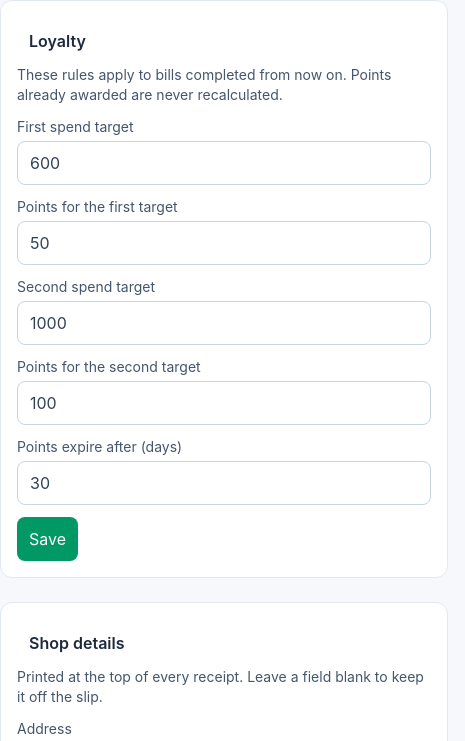
it: the loyalty settings screen › refuses an inverted pair of targets
Replace the text in the field with test id "settings-points_threshold_2" with "500": (224, 323) left=17, top=301, right=431, bottom=345
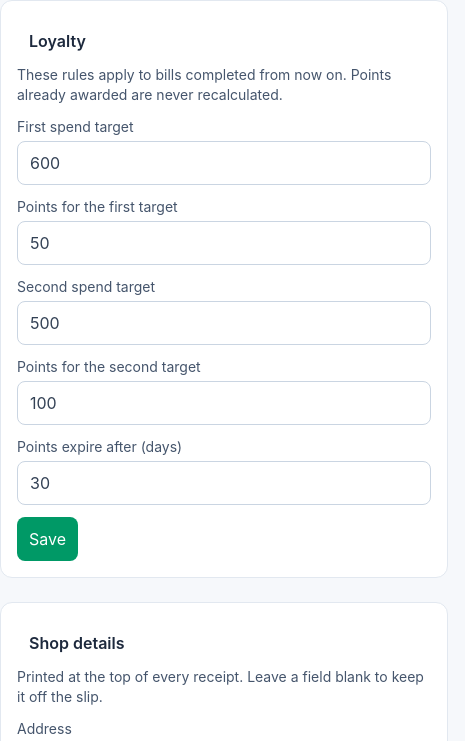
Click the button with test id "settings-save": (48, 539) left=17, top=517, right=78, bottom=561
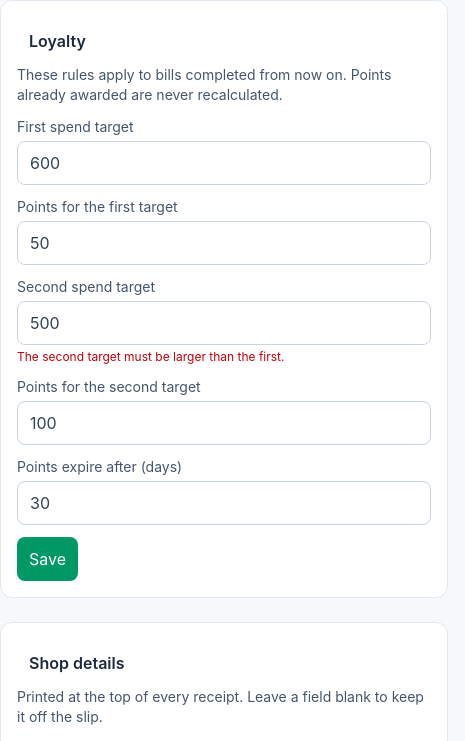
Now the text "The second target must be larger than the first." is shown, box left=17, top=349, right=284, bottom=364
